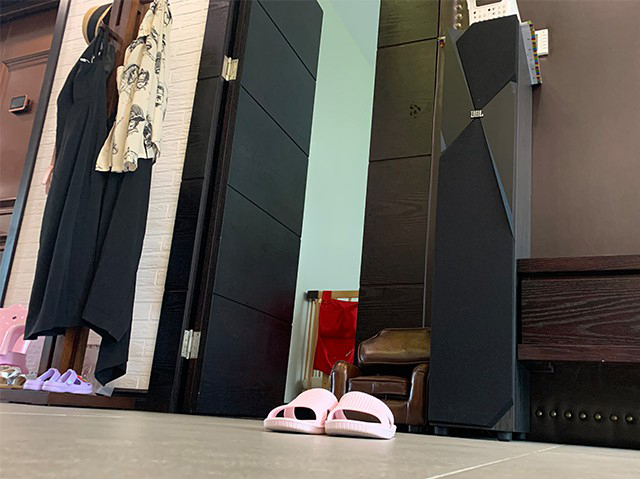slippers: (262, 386, 397, 440)
sofa: (325, 326, 430, 434)
